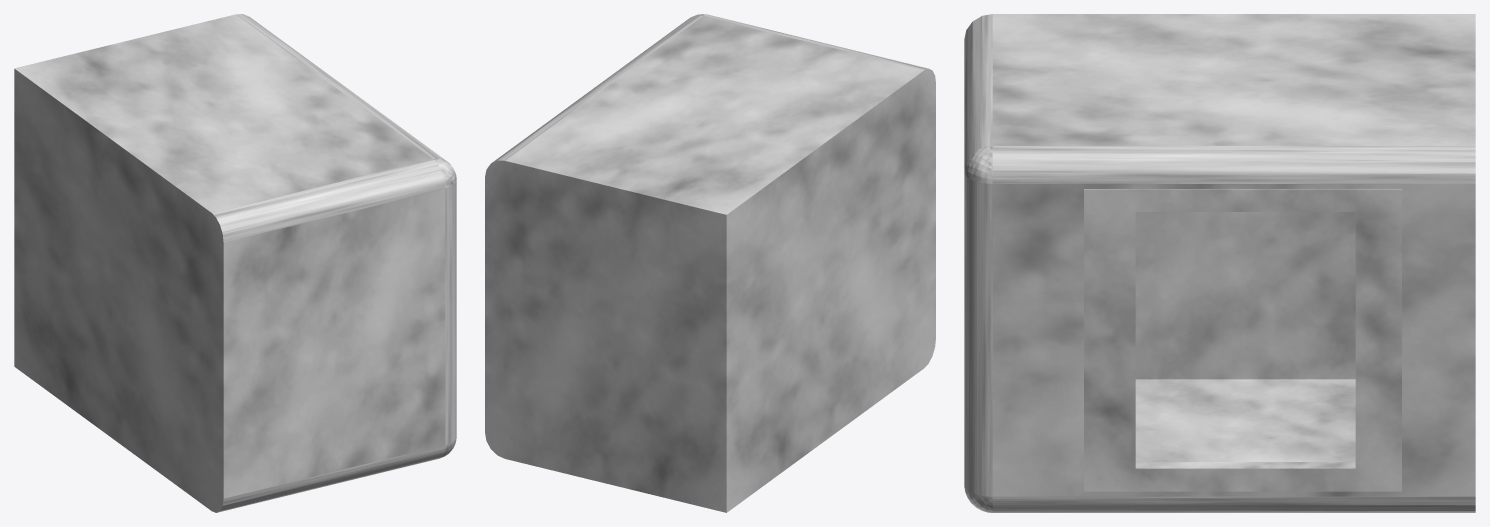
Rendered from cocina.dae.
3 renders of one model, left to right at view 1: azimuth 30°, elevation 25°; view 2: azimuth 150°, elevation 25°; view 3: azimuth 270°, elevation 25°, orthographic. The views are drawn at different scales.
Parts seen in each view (by area): view 1: node; view 2: node; view 3: node.
Boxes of the visible parts, x1,y1,x2,y2 form: node: [14, 14, 456, 512]; node: [485, 14, 935, 512]; node: [964, 14, 1475, 512].
Bounding box in the file's own units: 601 × 707 × 900.
Materials: 1 (1 with a texture image).
